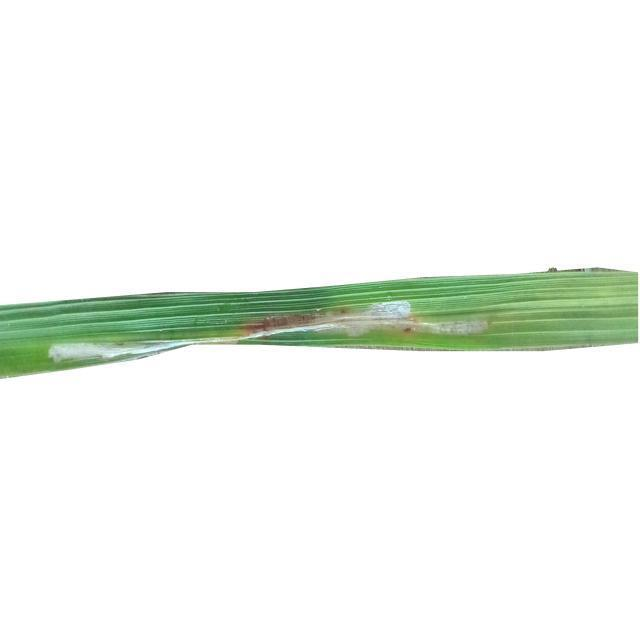Bacterial_Leaf_Blight: (237, 311, 414, 341), (49, 335, 160, 358), (398, 315, 505, 338), (376, 293, 419, 326)
